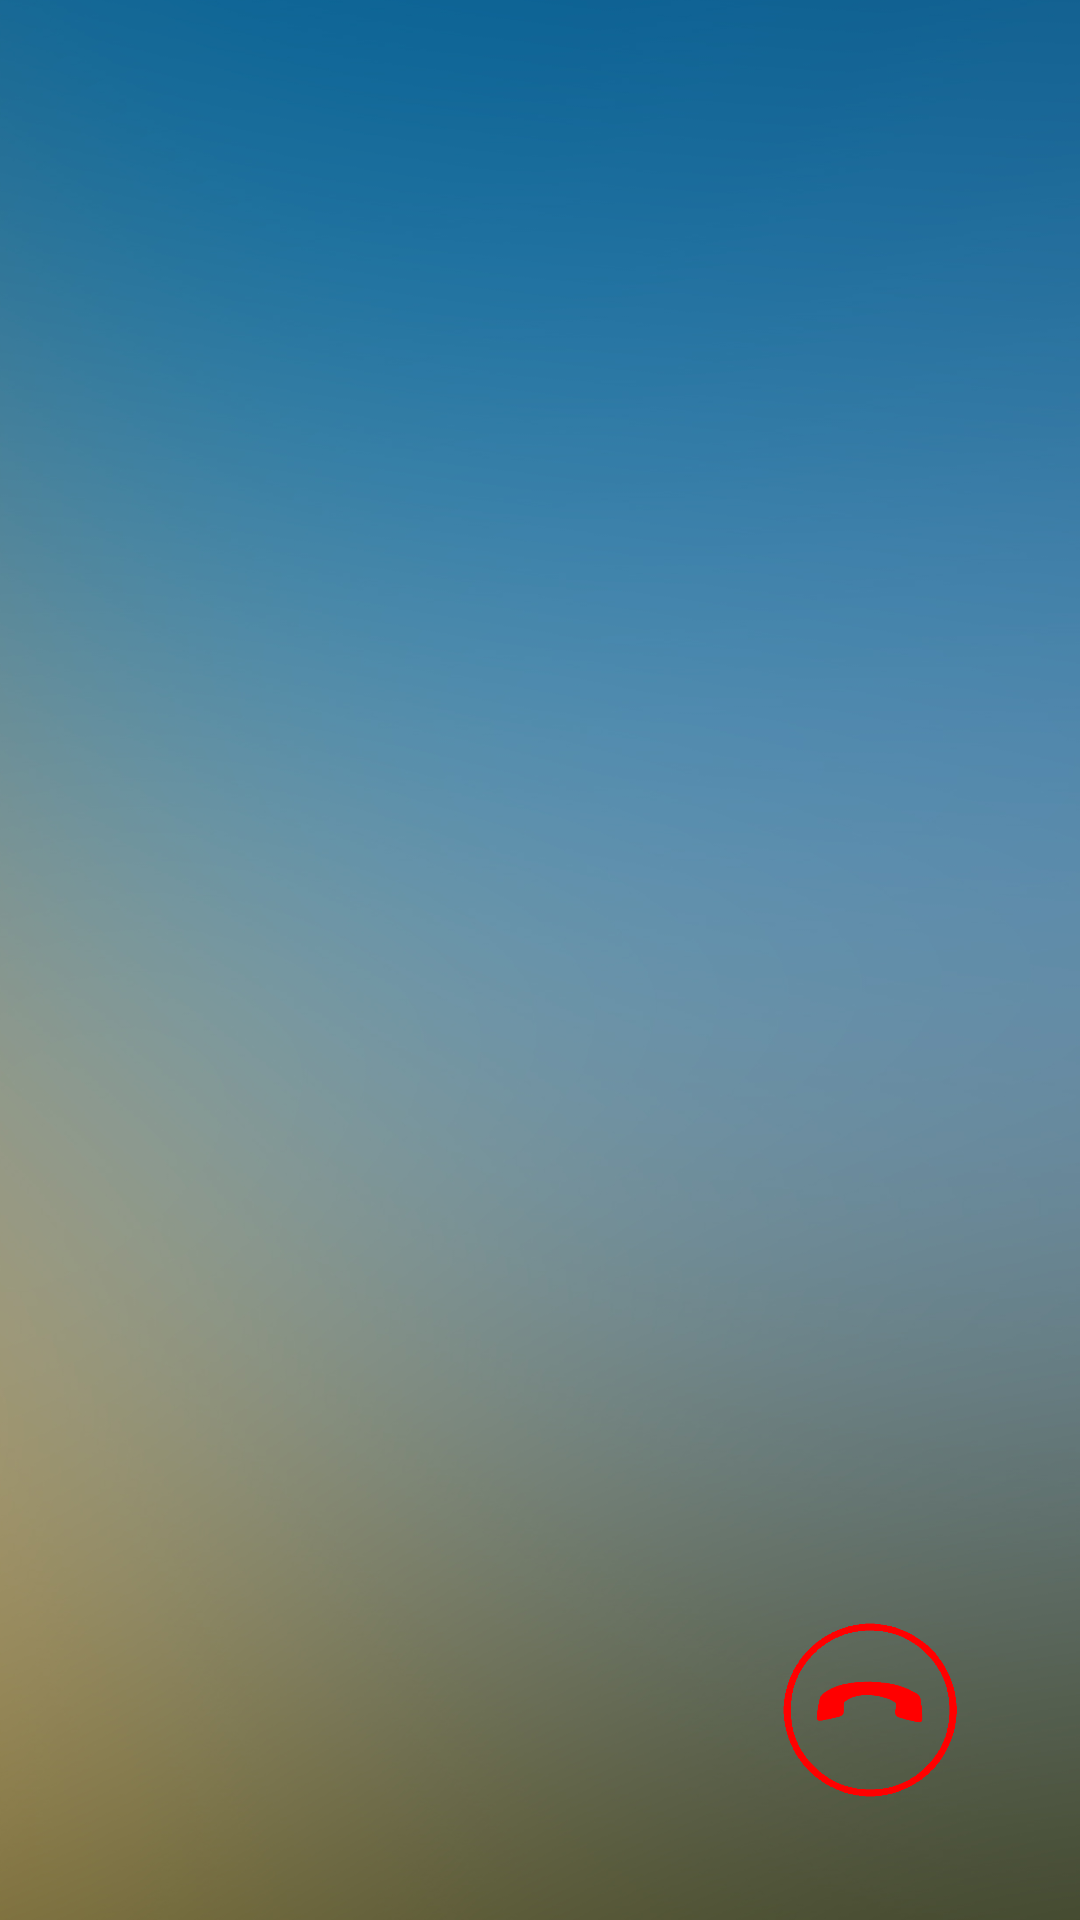

Screen size 1080 × 1920. Icon name, then its box in pixels as (x1, y1, x2, y2):
hangup call: (780, 1620, 960, 1797)
